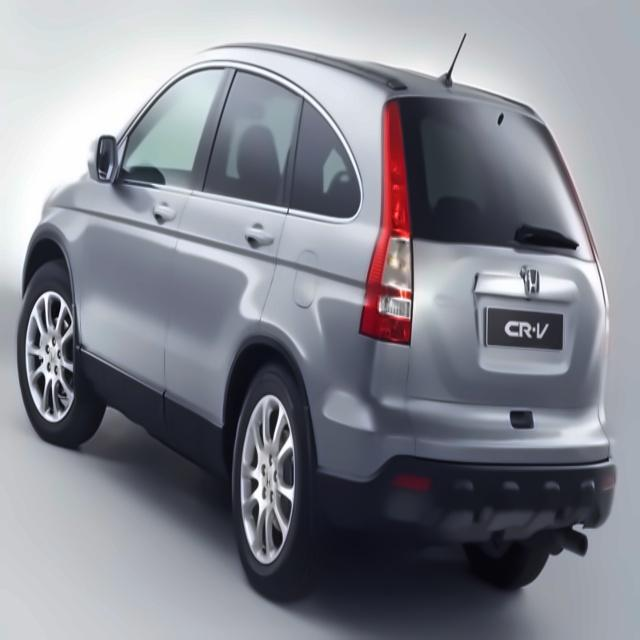Car boot: (395, 86, 613, 467)
Fender - -F-L-: (31, 168, 86, 362)
Fender - -R-L-: (263, 203, 407, 397)
Passenger-s door - -F-L-: (86, 54, 230, 442)
Passenger-s door - -R-L-: (167, 52, 308, 444)
Rear bumper: (309, 393, 628, 541)
Rear light - -L-: (356, 91, 421, 349)
Side bumper - -L-: (68, 337, 236, 489)
Side mirror - -L-: (80, 129, 134, 190)
